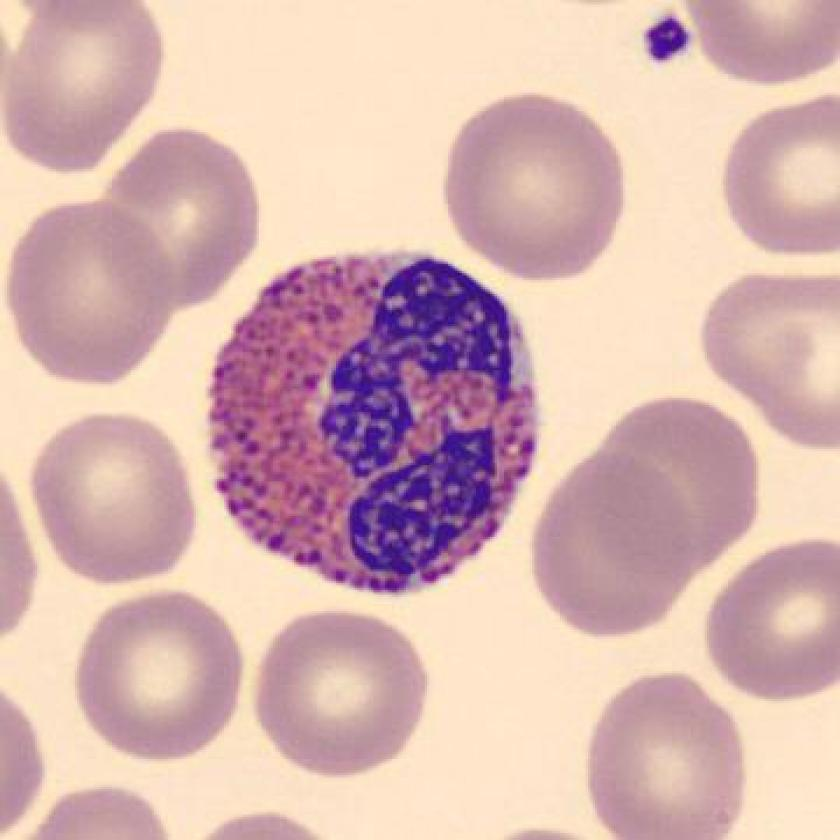eosinophil: (200, 240, 557, 608)
